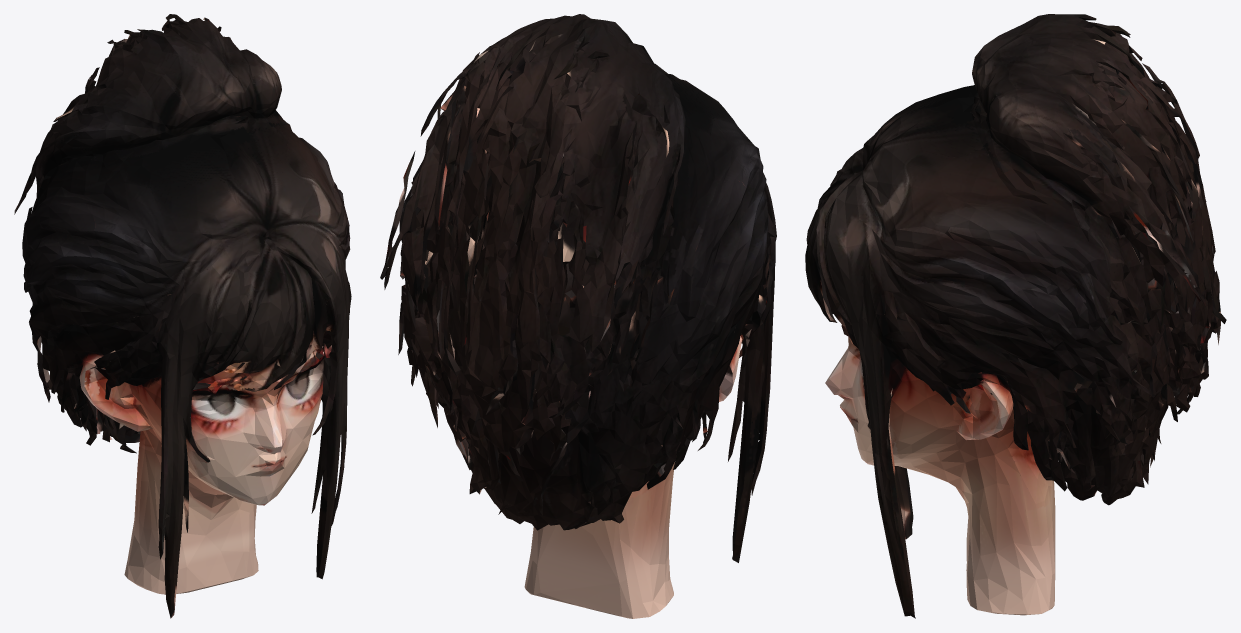
Rendered from side_kusuri_repaired_atlas.glb.
3 renders of one model, left to right at view 1: azimuth 30°, elevation 25°; view 2: azimuth 150°, elevation 25°; view 3: azimuth 270°, elevation 25°, orthographic. The views are drawn at different scales.
Parts seen in each view (by area): view 1: temp_mesh.ply; view 2: temp_mesh.ply; view 3: temp_mesh.ply.
Boxes of the visible parts, x1,y1,x2,y2 form: temp_mesh.ply: (14,14,351,618); temp_mesh.ply: (380,14,776,618); temp_mesh.ply: (805,14,1226,618).
Size of the model in its own units: 1.13 by 1.97 by 1.33.
Materials: 1 (1 with a texture image).
